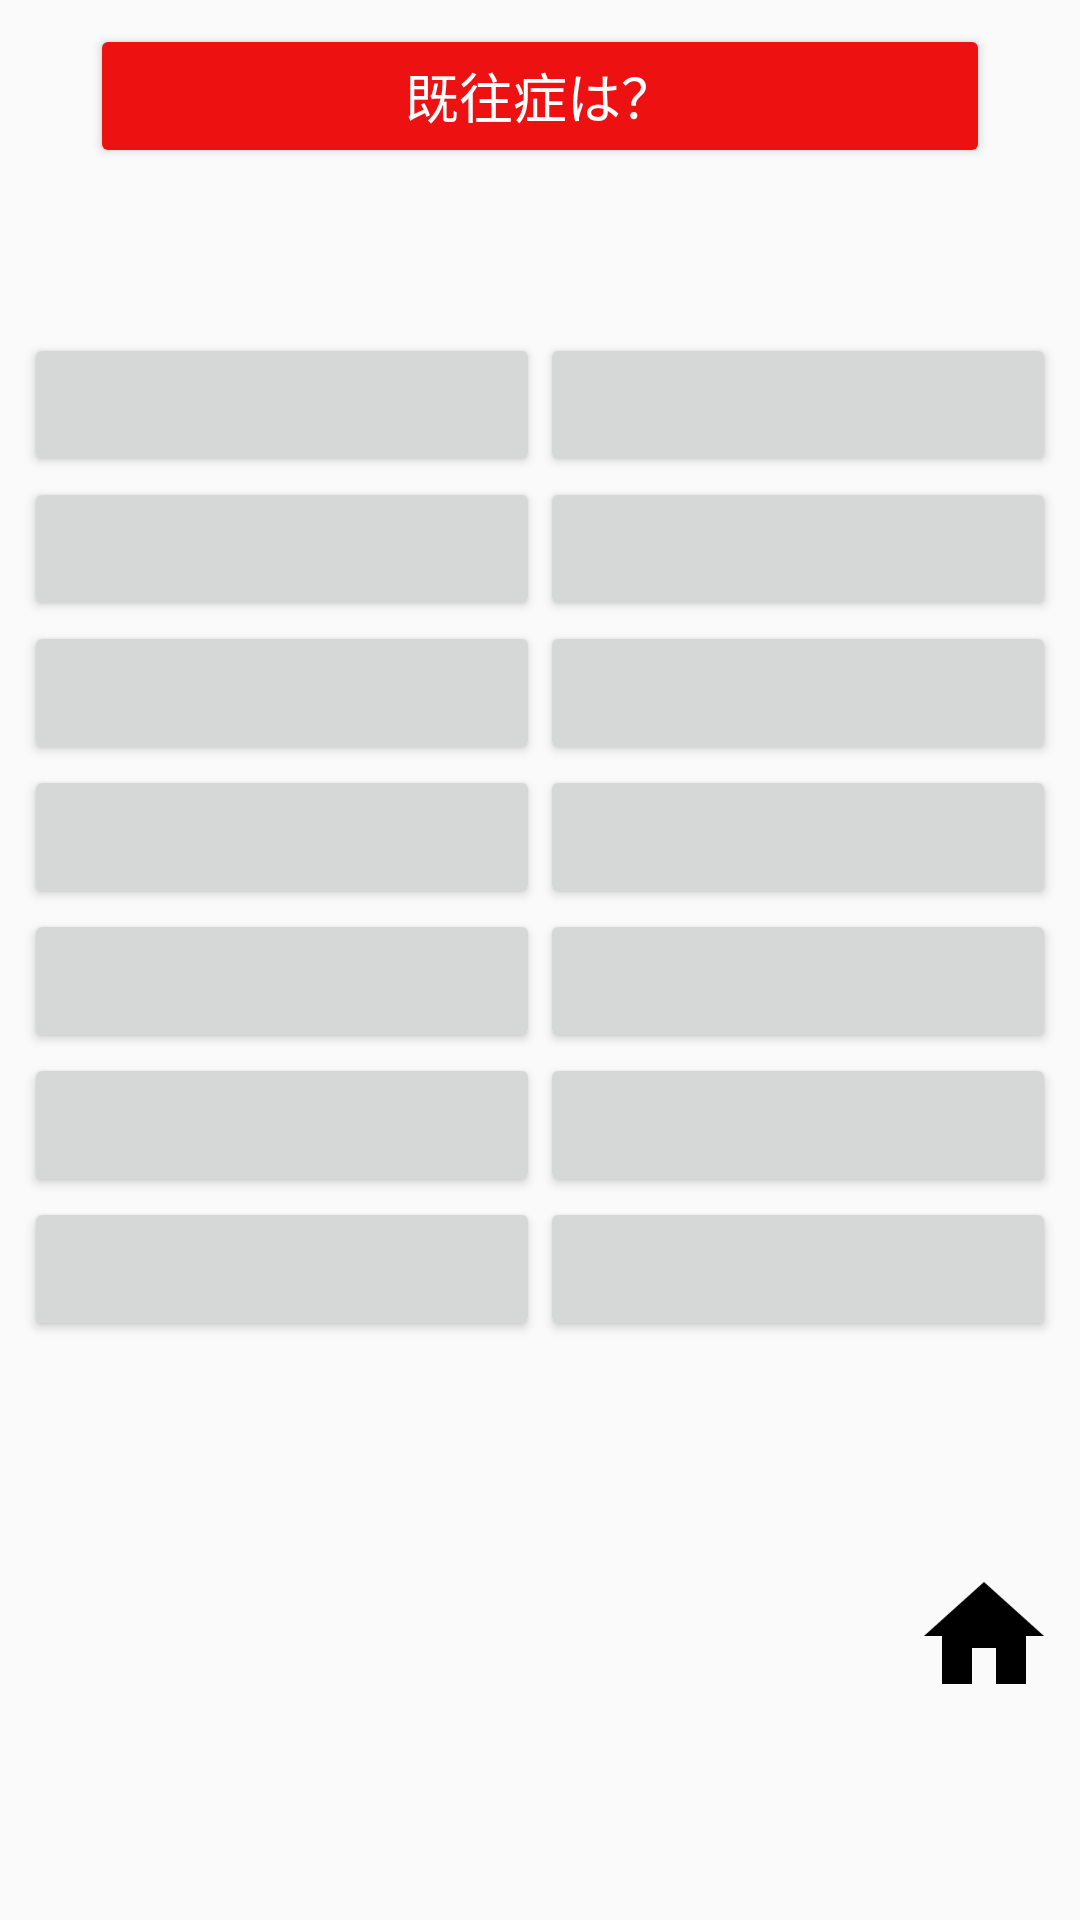

Icons on this 1080px×1920px Android screen, each with its box as detection(x1, y1, x2, y2):
home: detection(924, 1582, 1044, 1684)
